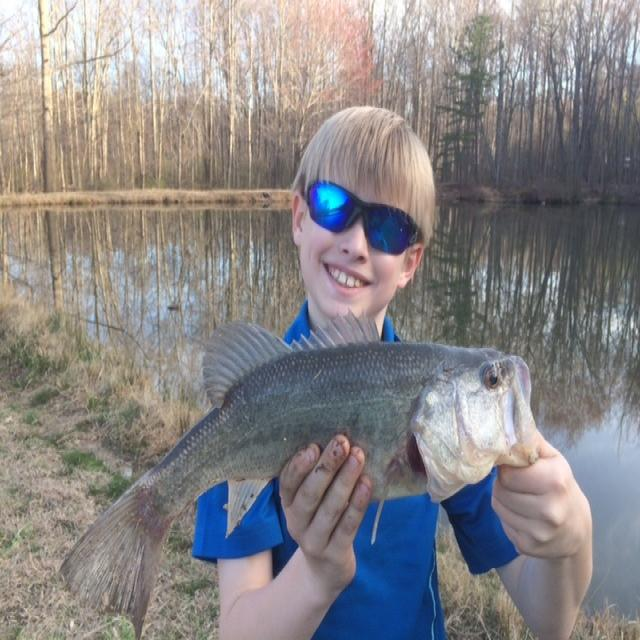Bass - Largemouth: (61, 315, 538, 635)
